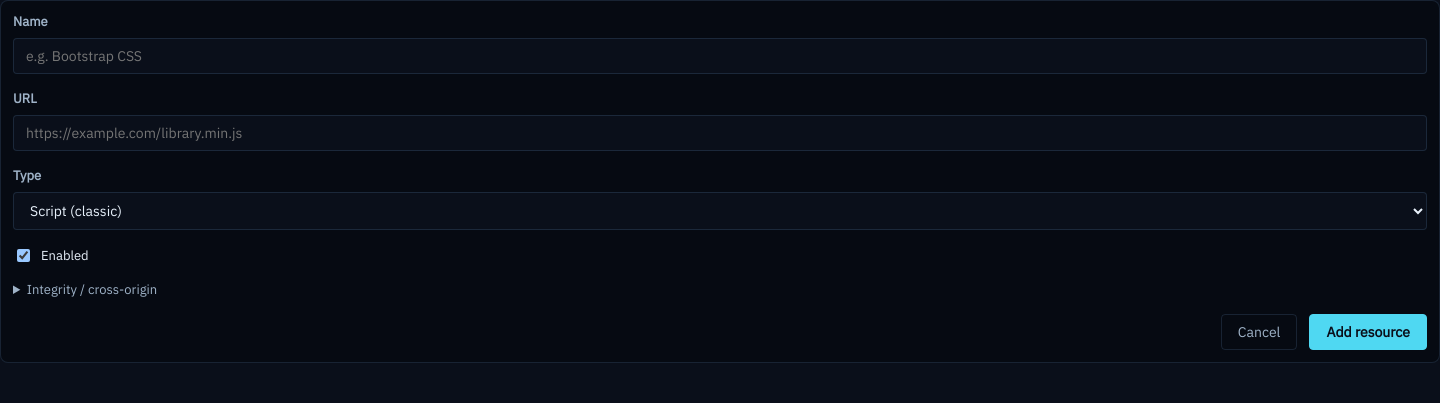
Test: ResourceForm › blocks submission and shows an error for an invalid URL
This screenshot has width=1440, height=403.
Type "lodash" into the field labelled "URL" at (720, 133), box [13,115,1427,151]
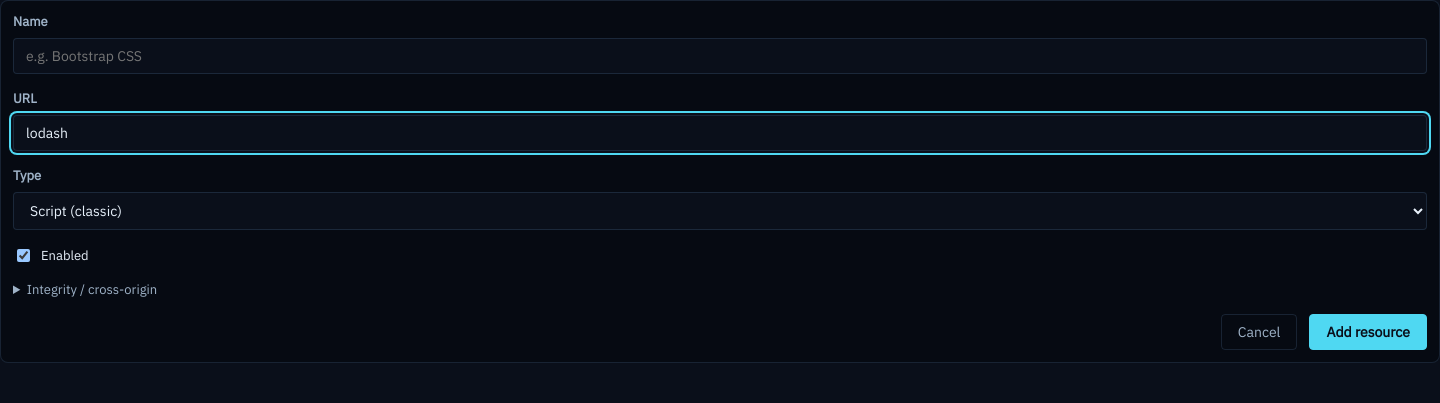
Click the button "Add resource" at (1368, 332), box [1309,314,1427,350]
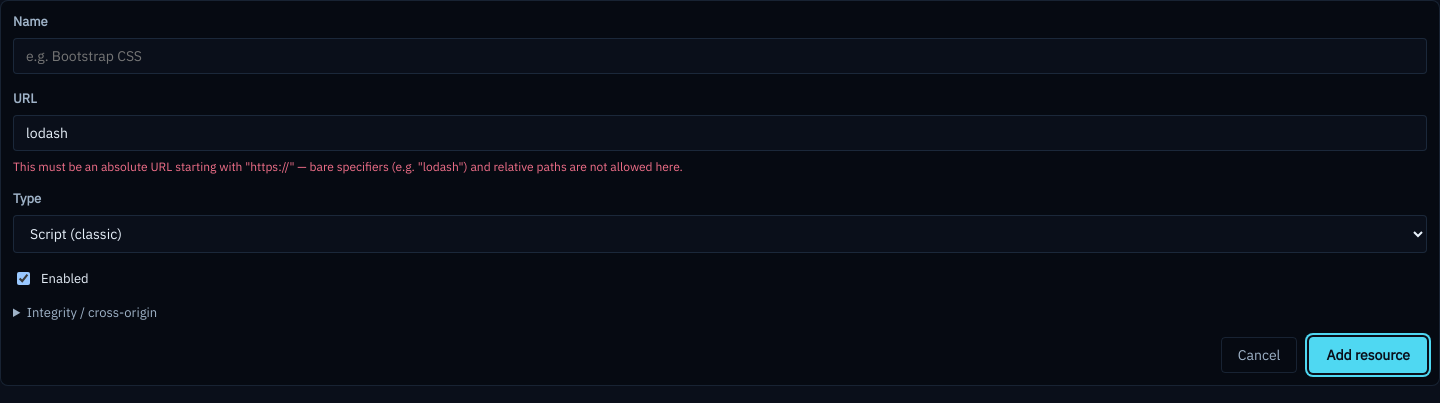
expect the message is shown: met, box [13,159,683,174]
